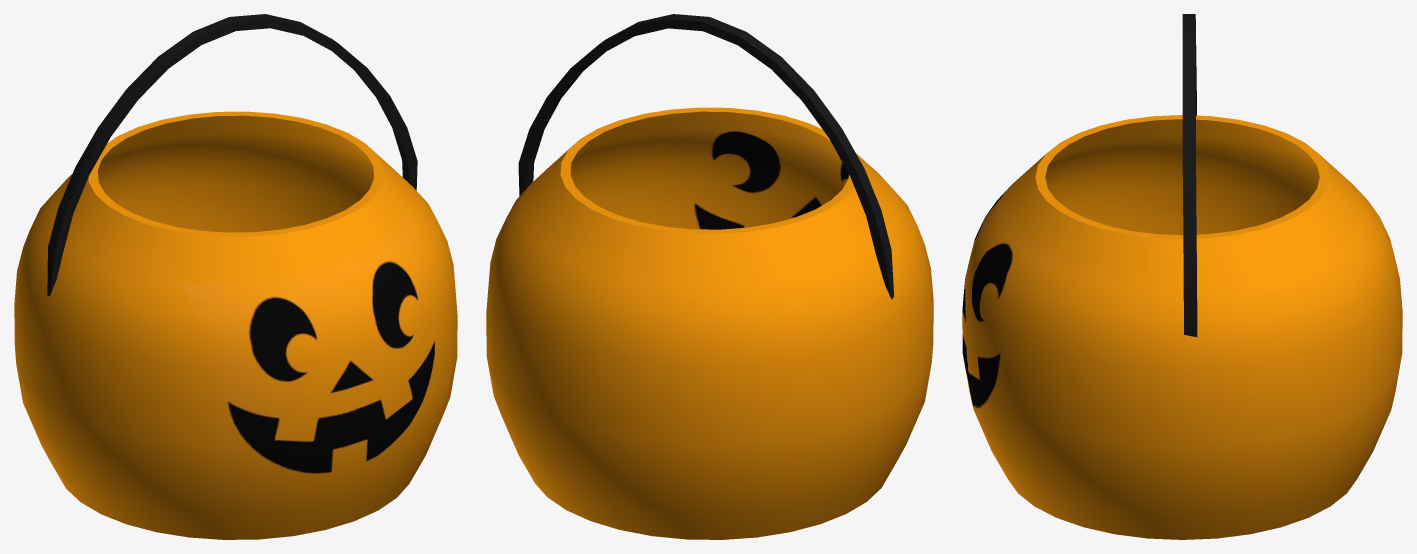
Rendered from halloween_bucket.glb.
3 views of the same model, side by side, from view 1: azimuth 30°, elevation 25°; view 2: azimuth 150°, elevation 25°; view 3: azimuth 270°, elevation 25° (orthographic).
Parts seen in each view (by area): view 1: Circle; view 2: Circle; view 3: Circle.
Part boxes in pixels (x1,y1,x2,y2): Circle: [14, 14, 457, 539]; Circle: [486, 14, 933, 539]; Circle: [962, 14, 1402, 539].
Bounding box in the file's own units: 1.2 × 1.32 × 1.2.
Materials: 1 (1 with a texture image).
